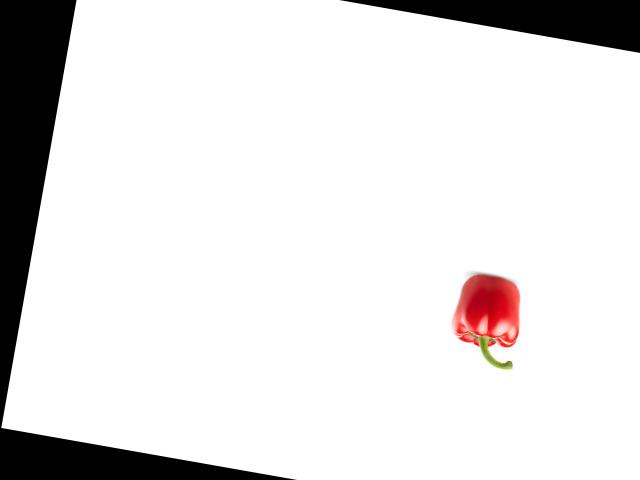bell_pepper: (447, 270, 530, 372)
